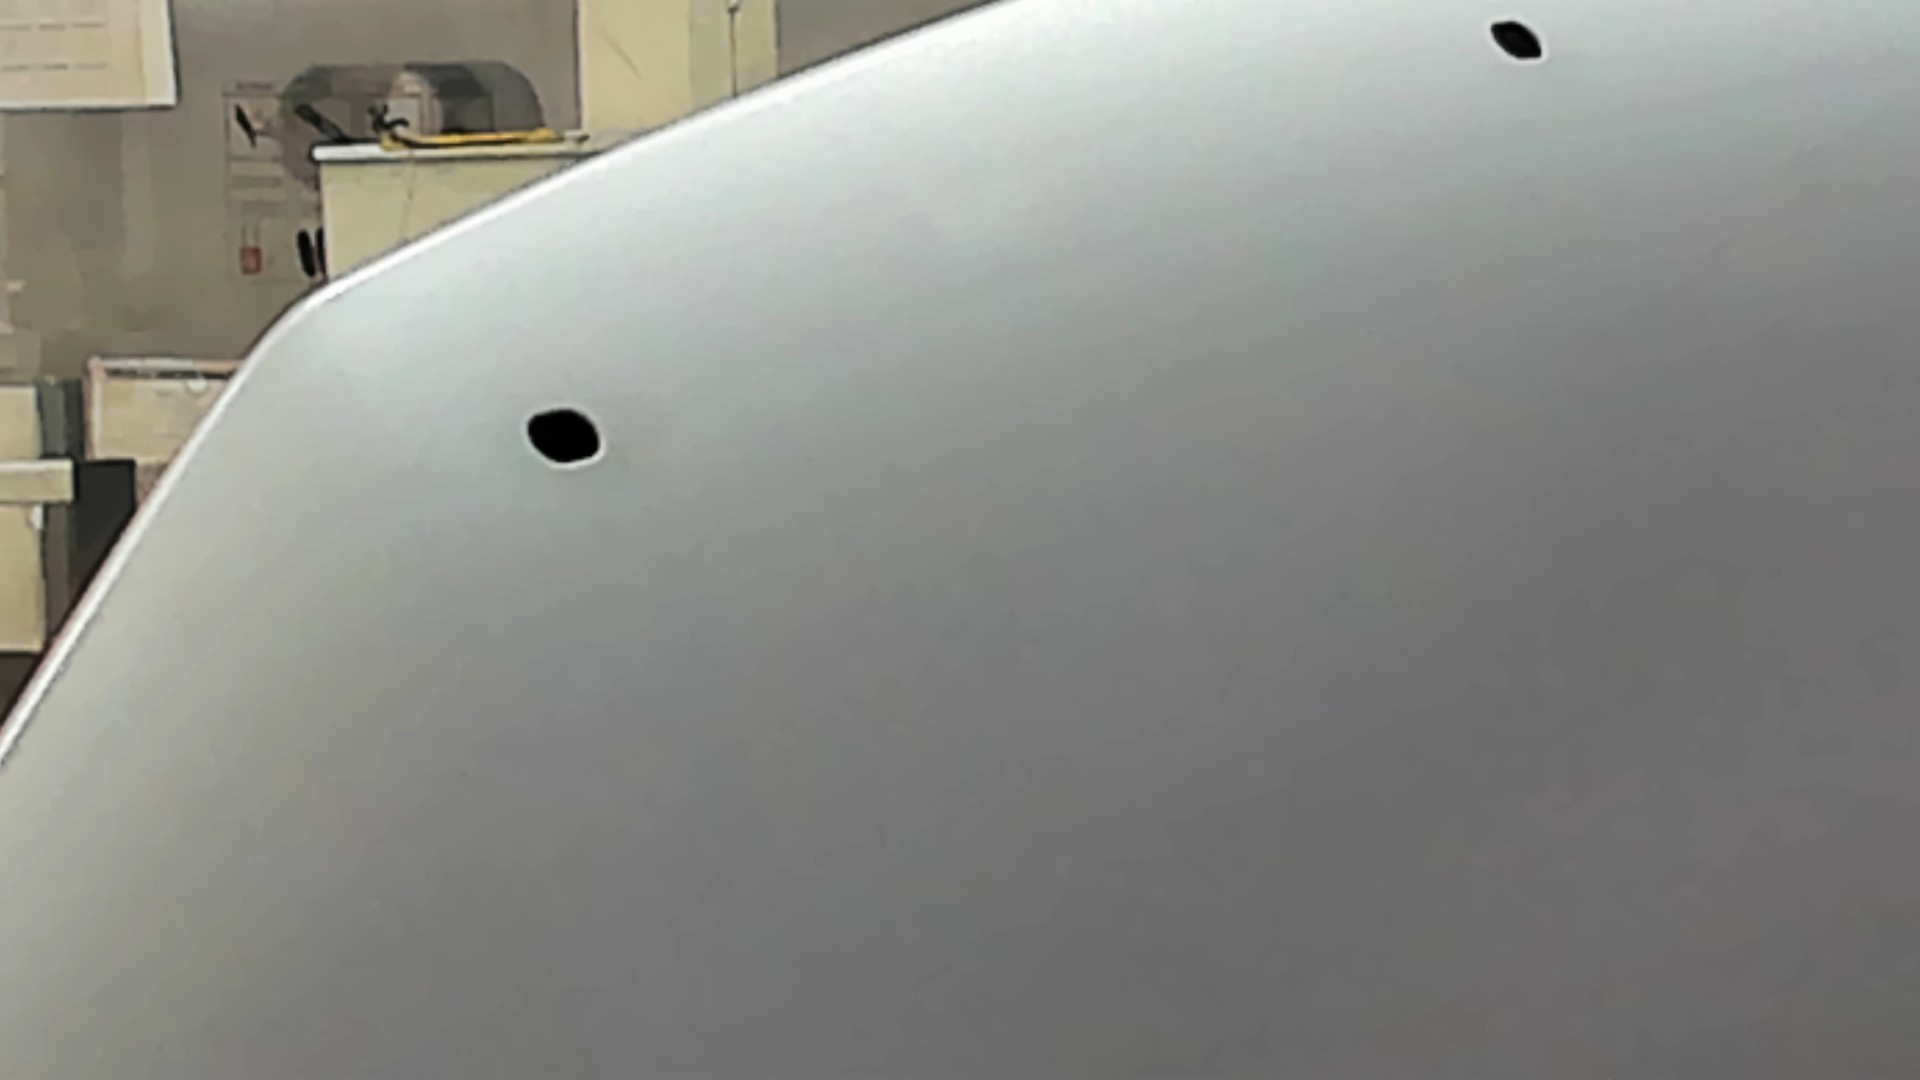Agujero: (516, 400, 612, 469), (1478, 11, 1556, 71)
